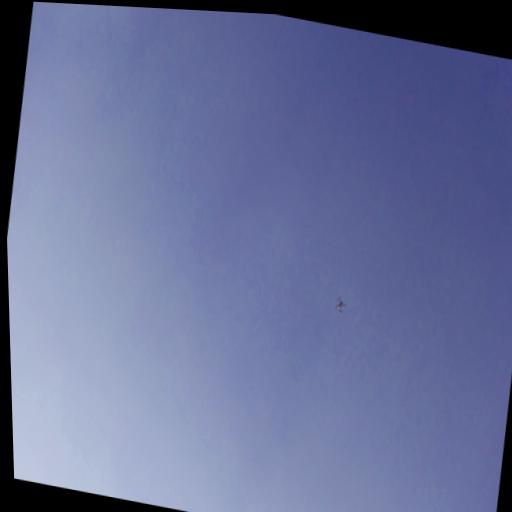drones: (334, 295, 348, 315)
